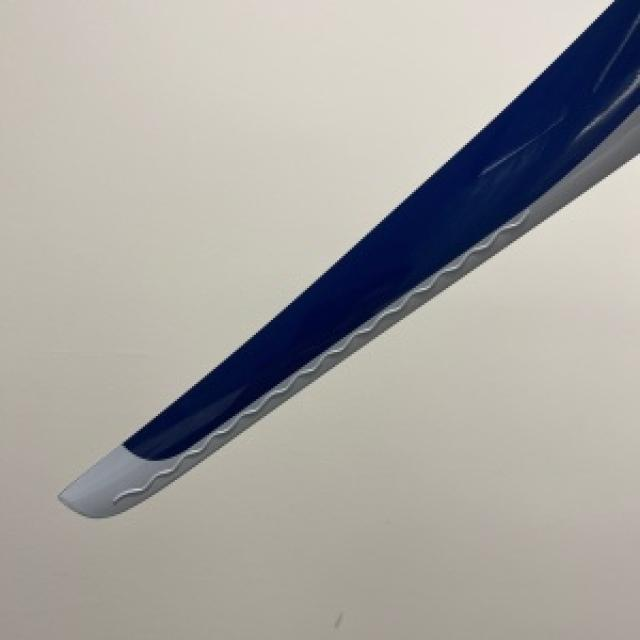healthy: (58, 0, 638, 516)
